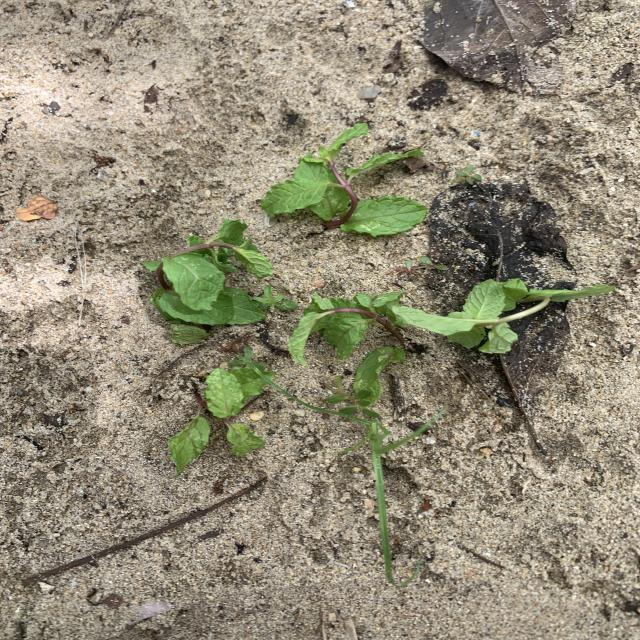crop: (288, 279, 614, 365), (260, 124, 426, 235), (142, 220, 272, 343), (169, 365, 270, 472), (353, 347, 404, 397)
weed: (341, 408, 444, 587), (322, 376, 379, 418), (253, 287, 297, 310), (392, 256, 447, 272), (229, 347, 254, 368), (455, 165, 482, 184)
